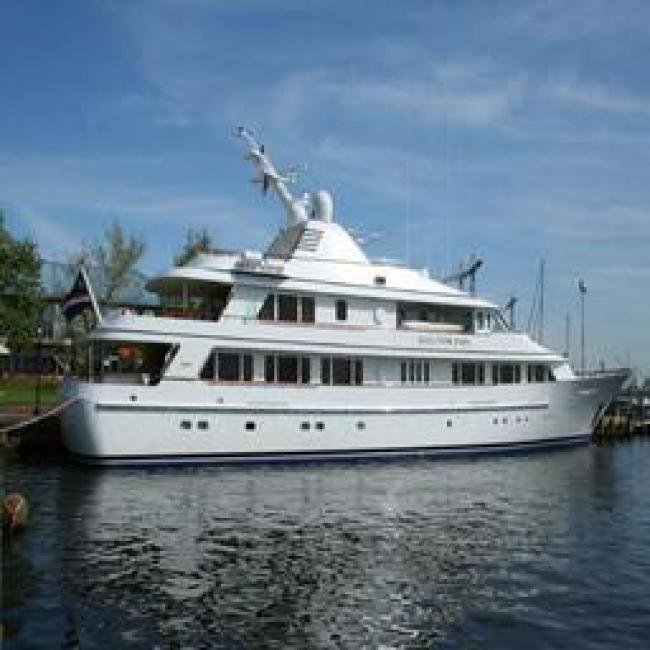Ship: (27, 242, 638, 457)
